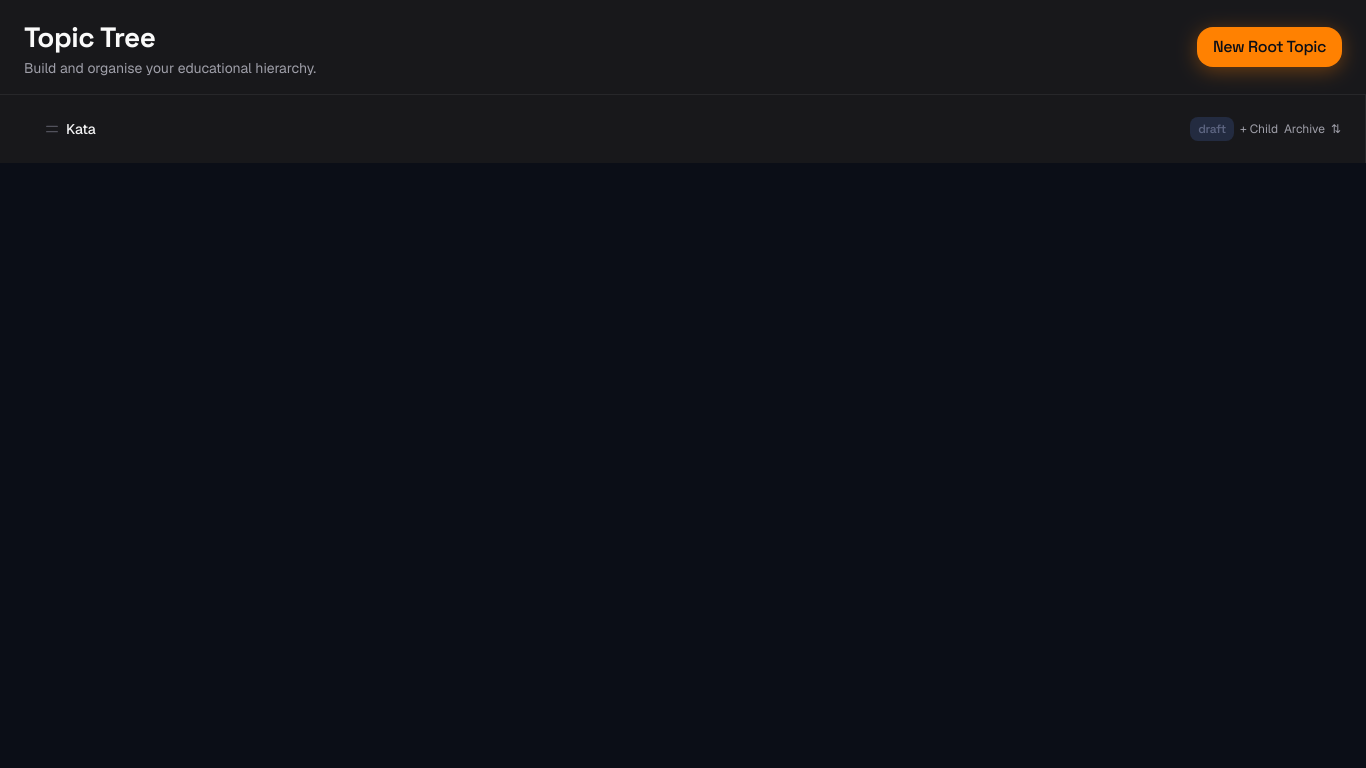
AdminTopicsPage — tags by name › opening an existing topic shows its current tags as chips
Click the element with test id "topic-node-topic-1" at (682, 129), box [16,111,1349,147]
(page scrolled)
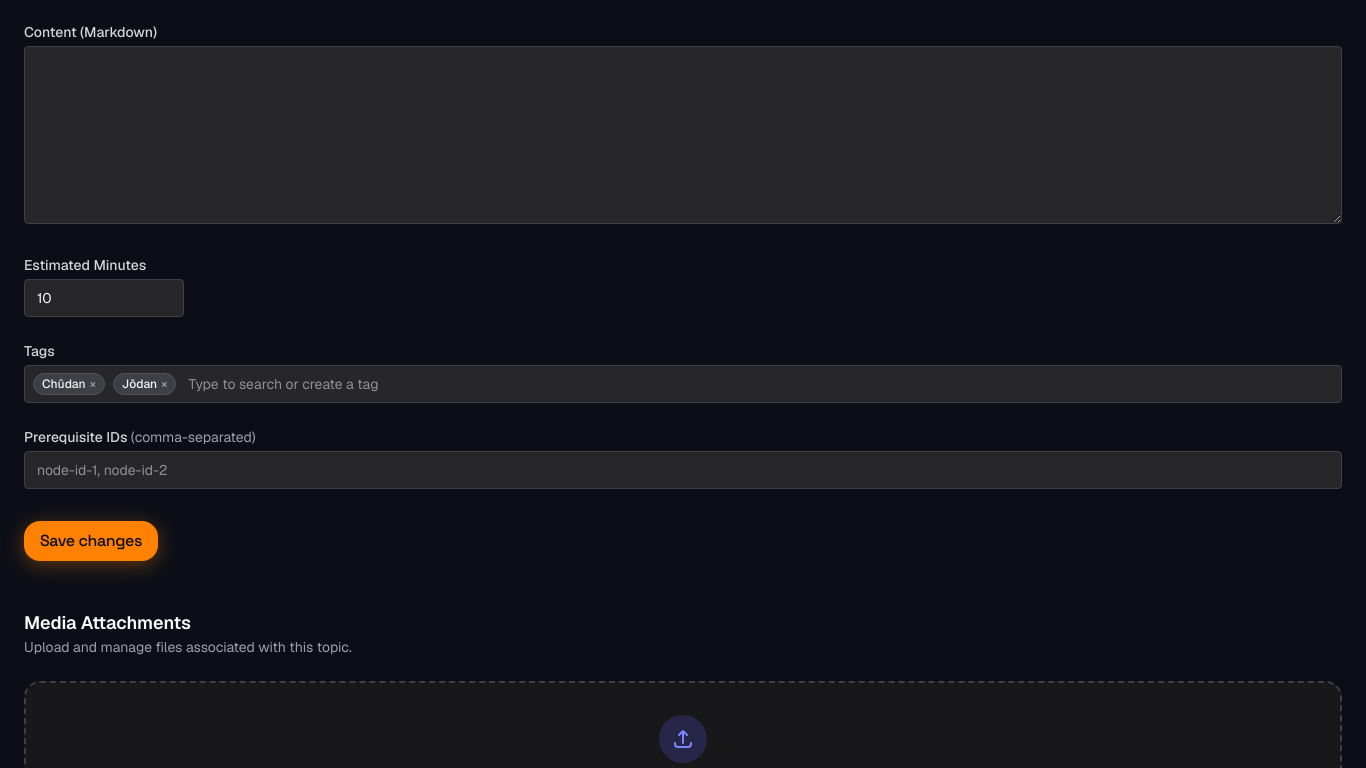
Check: the dropdown labelled "Tags" is shown, box [184,372,1333,396]
